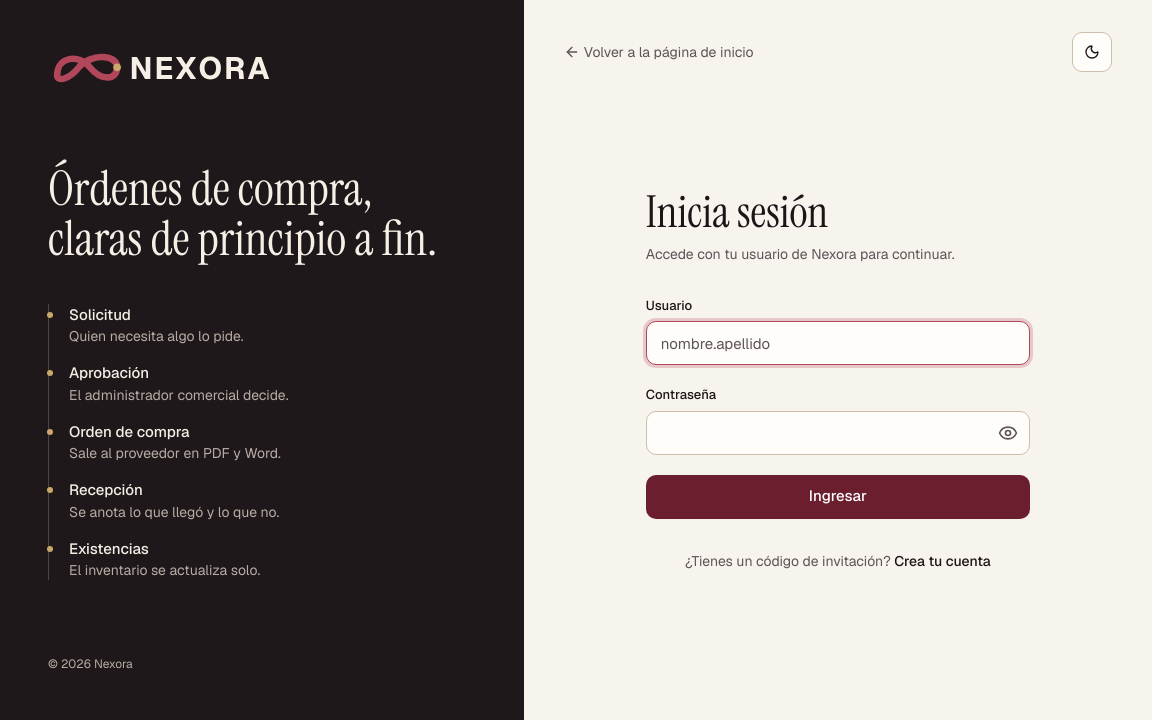
Test case: Login: límite de intentos › el 401 de siempre no cambia
Type "ana.ruiz" into the field labelled "Usuario" at coordinates (838, 343), box [646,321,1030,365]
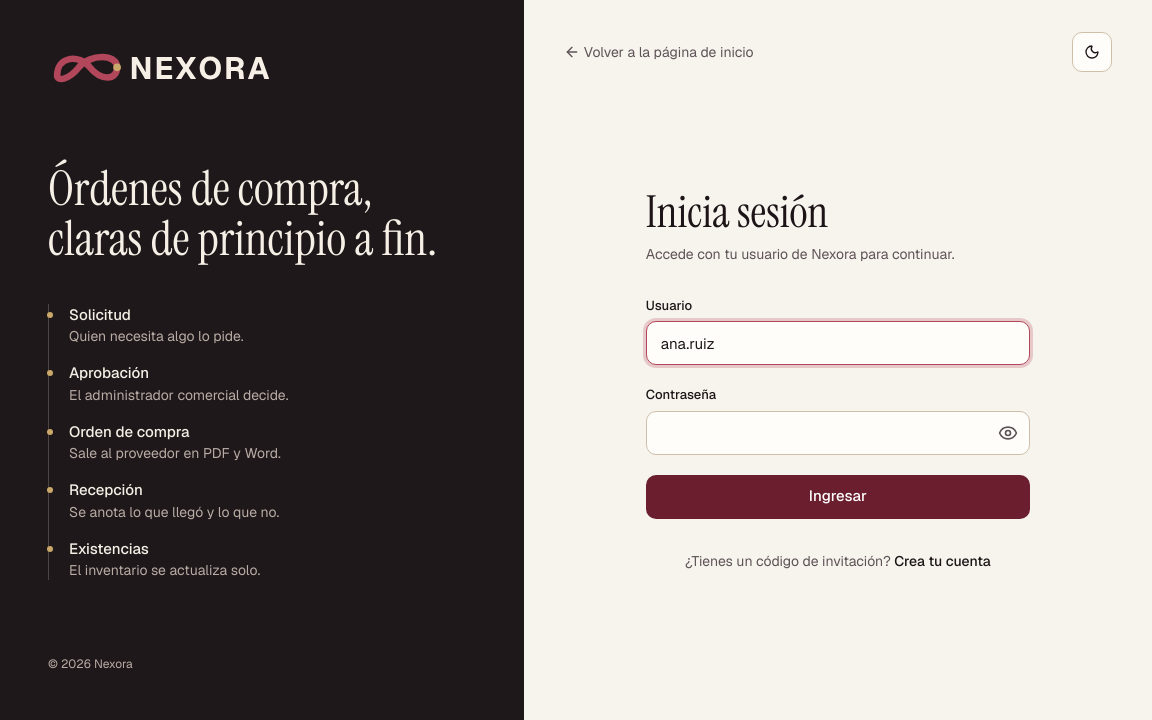
Type "incorrecta" into the password field labelled "Contraseña" at coordinates (838, 433), box [646,411,1030,455]
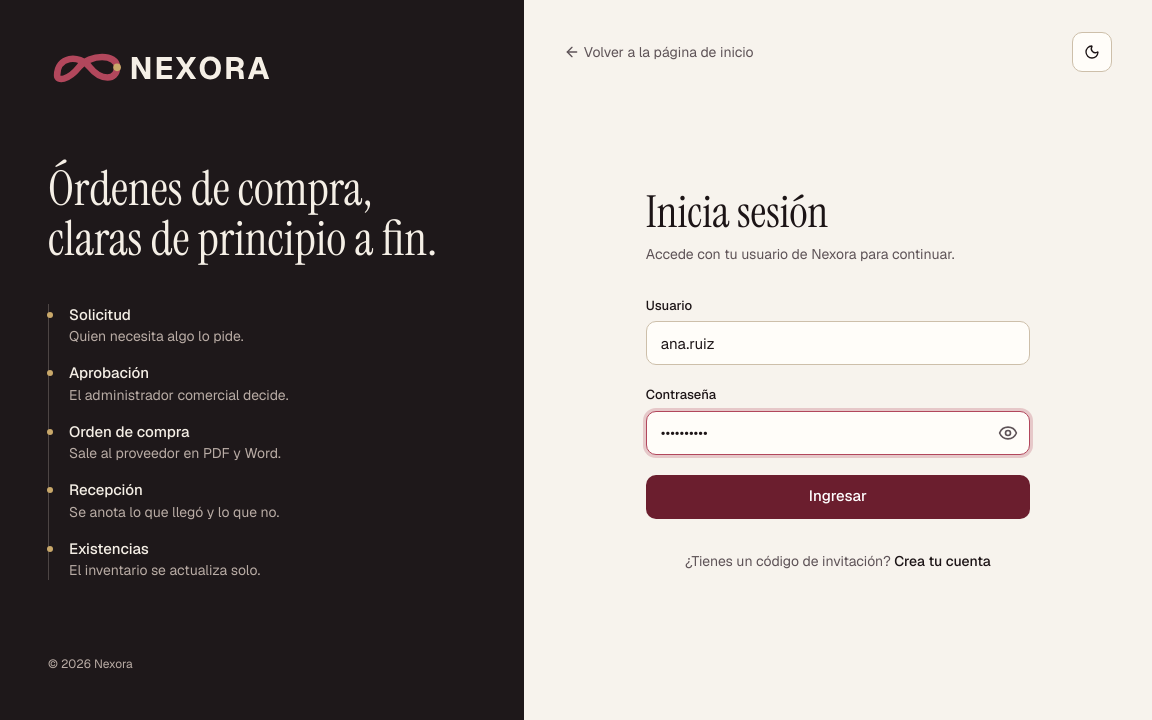
Click the button "Ingresar" at coordinates (838, 497), box [646,475,1030,519]
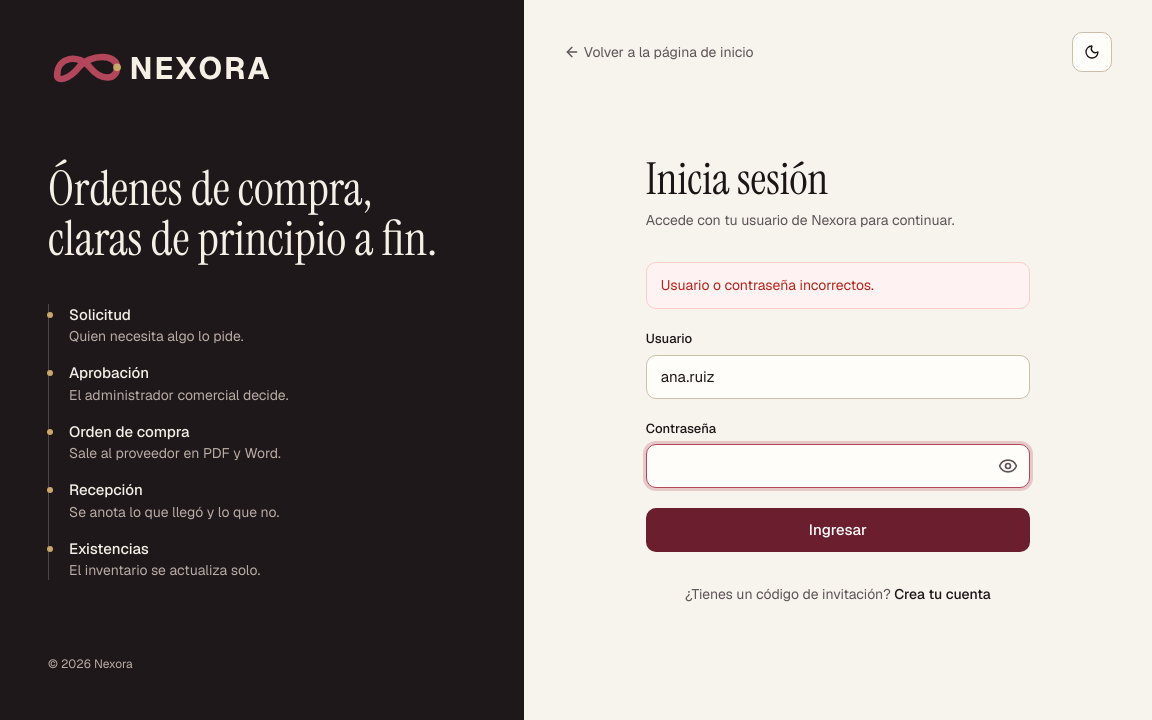
Now the message reads "Usuario o contraseña incorrectos.", box [661,276,874,294]
